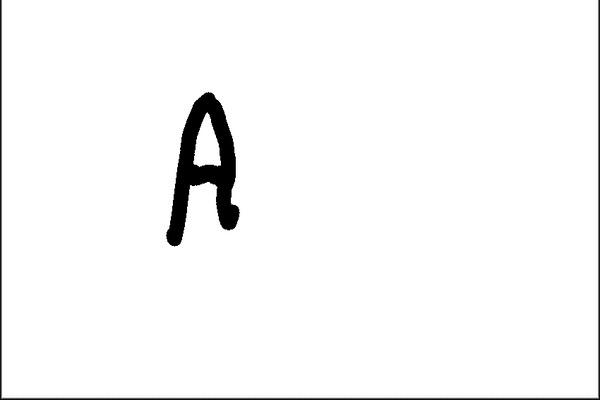A: (145, 82, 268, 252)
